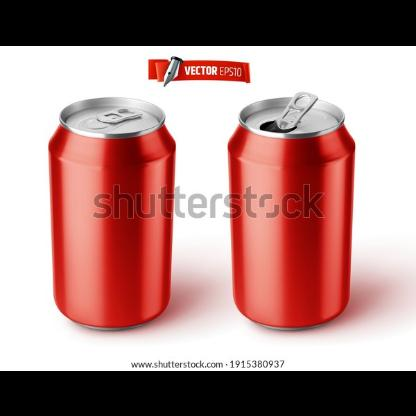Lid_Open: (262, 84, 318, 145)
Tin_Can: (42, 84, 184, 322), (222, 88, 352, 326)
